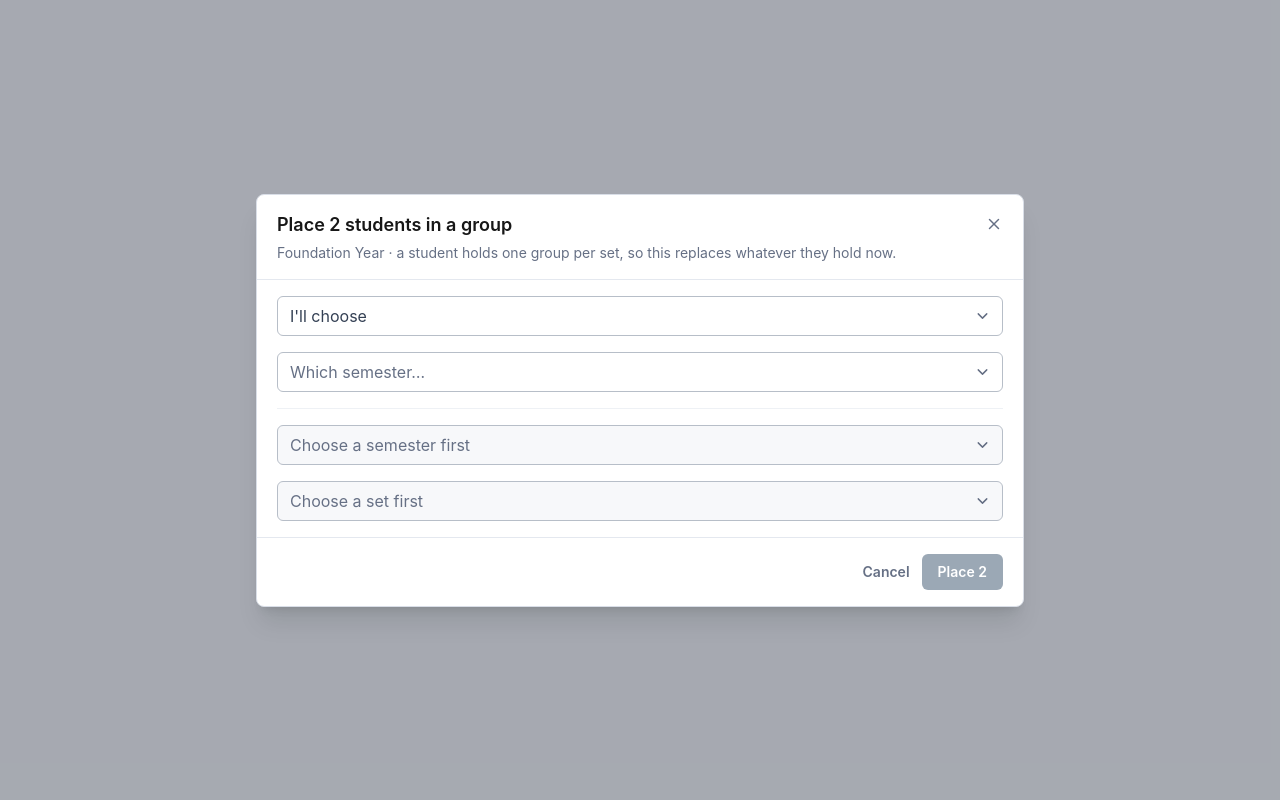
it: groups nobody should be placed into › still offers a group retired for one course of the set and live for another
This screenshot has width=1280, height=800.
Click the dropdown labelled "semester" at (358, 372), box [277,352,1003,392]
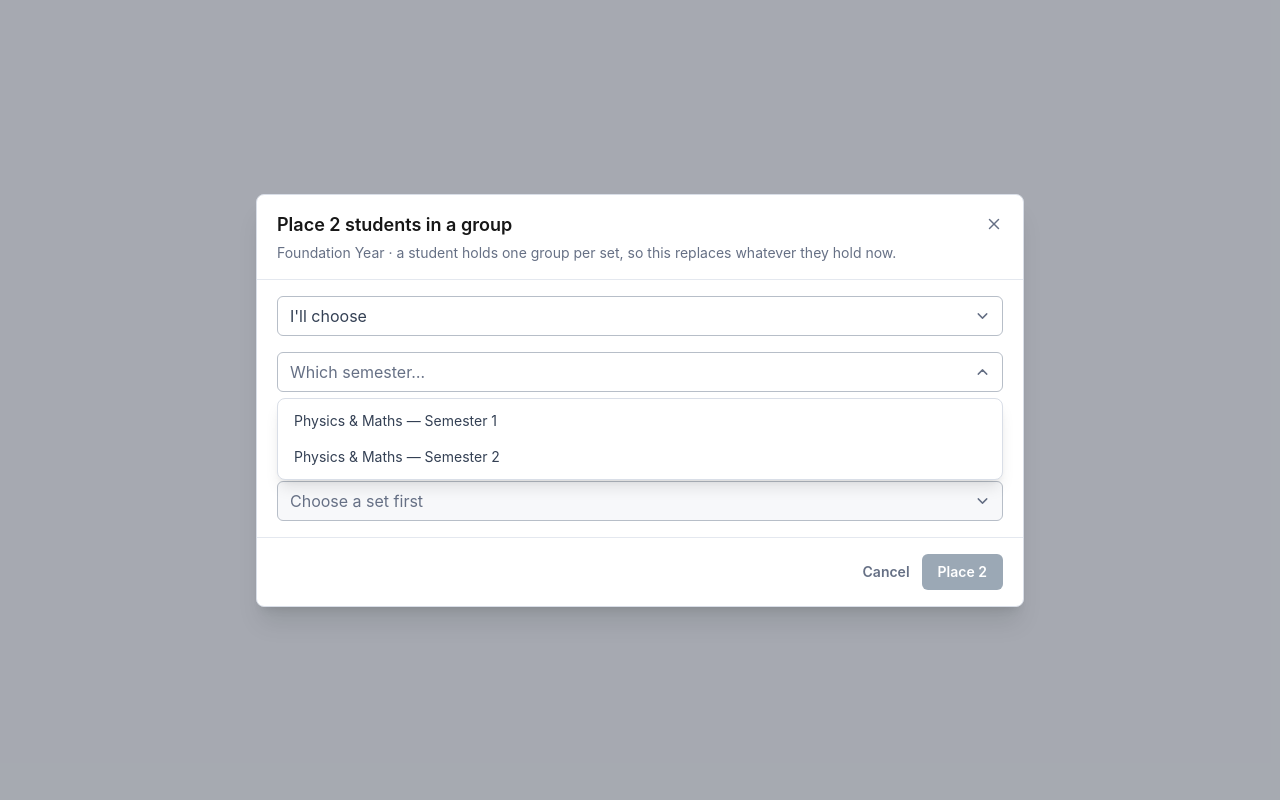
Click the option "Physics & Maths — Semester 1" at (396, 420), box [282,403,998,439]
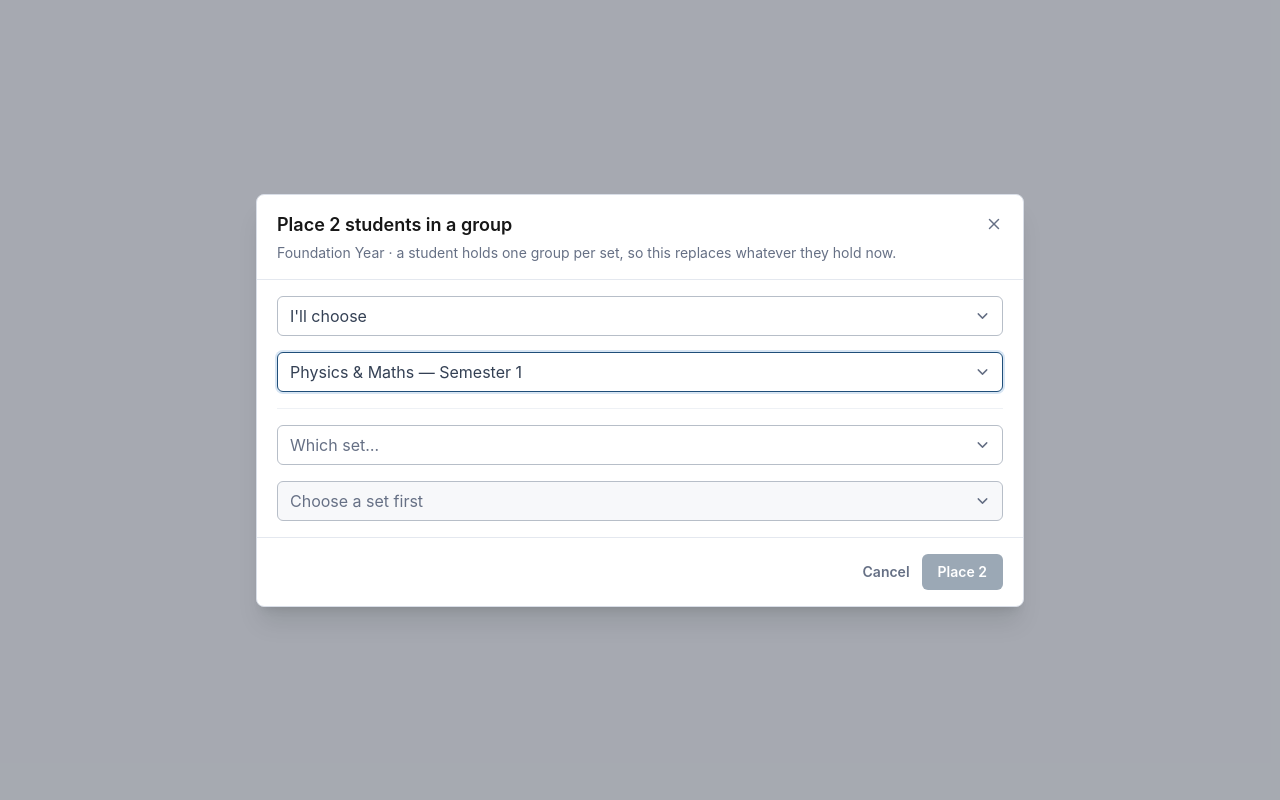
Check: the dropdown named "Block" is enabled
Click the dropdown named "Block" at (335, 444), box [277,424,1003,464]
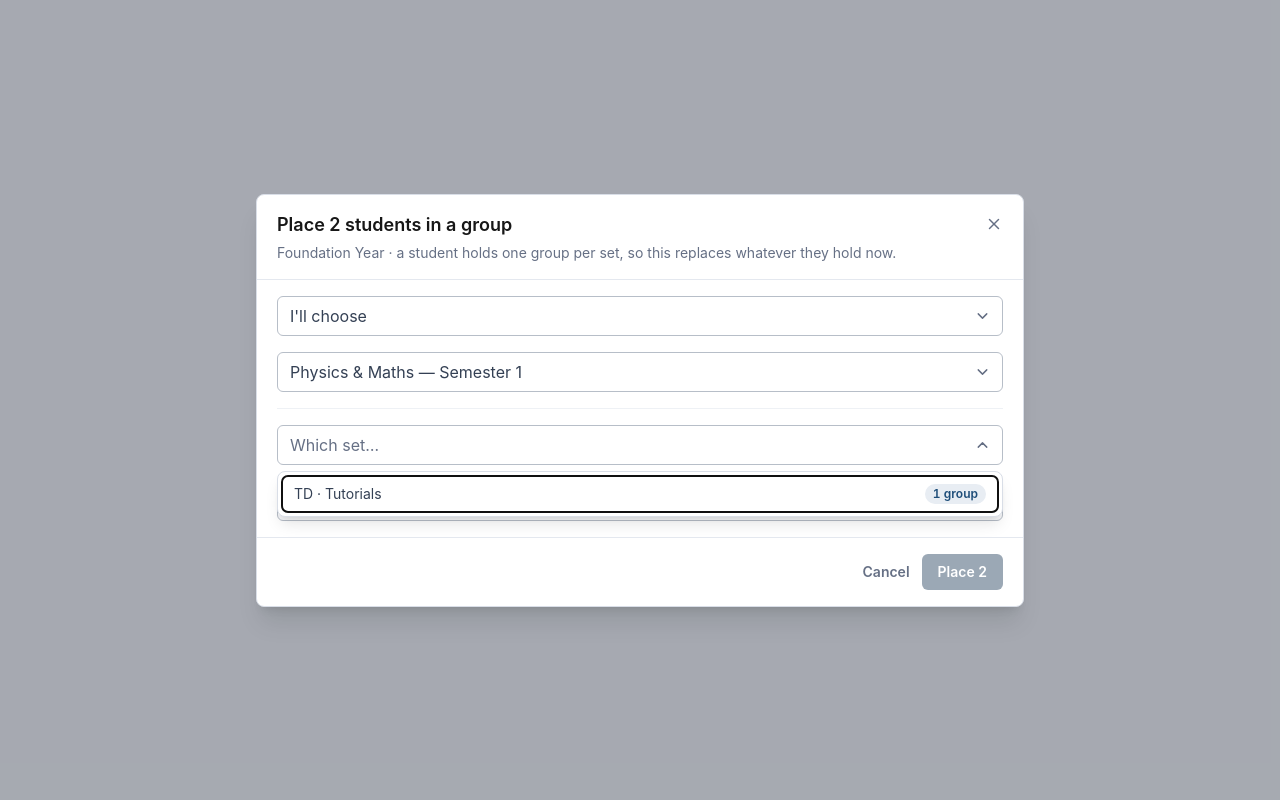
Click the option "TD · Tutorials 1 group" at (338, 494), box [282,476,998,512]
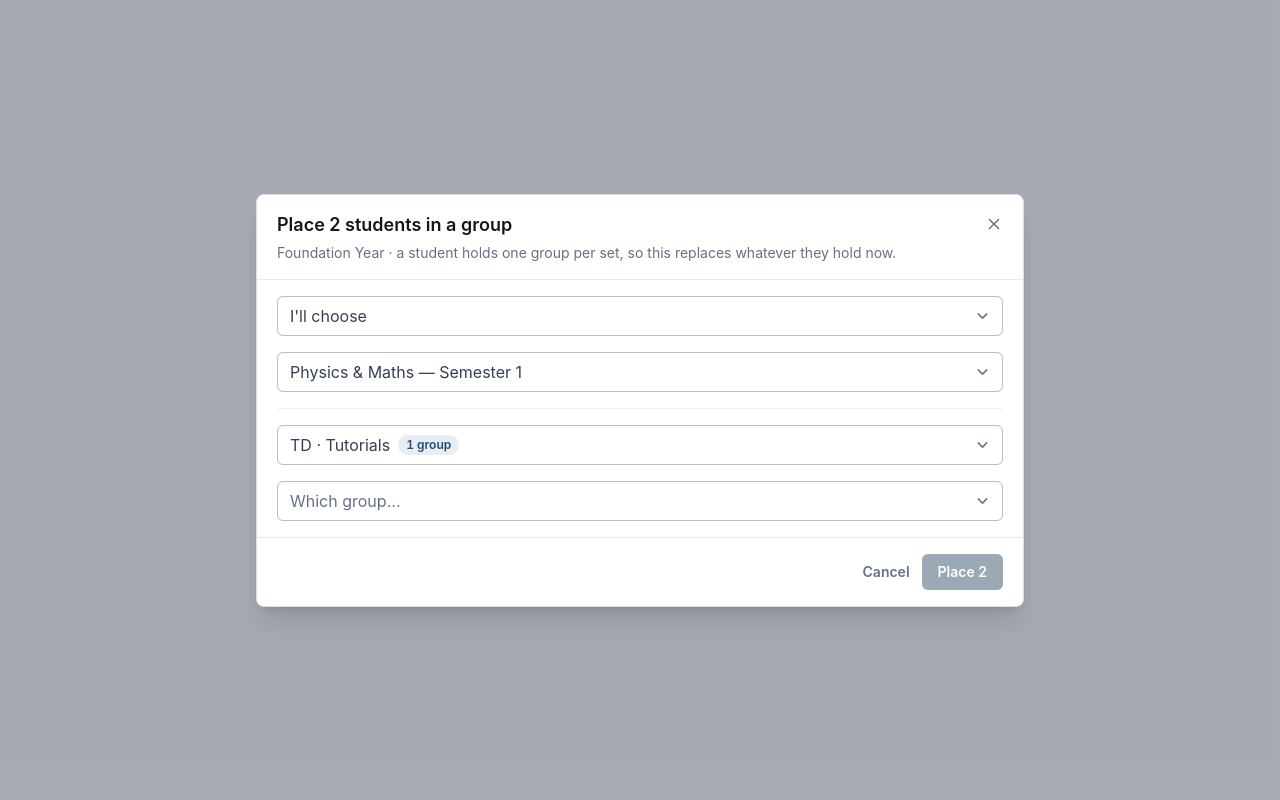
Click the dropdown labelled "group" at (345, 500), box [277,480,1003,520]
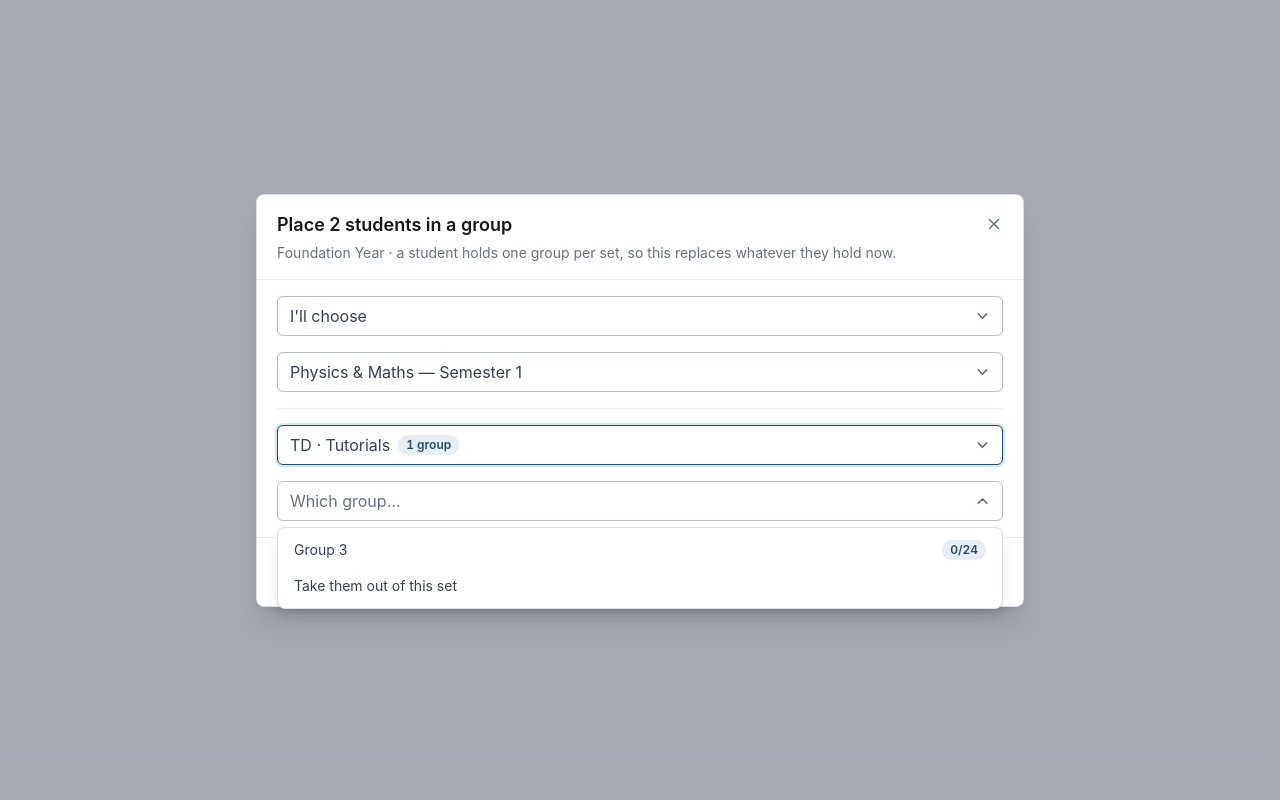
Check: the option "Group 3 0/24" is shown, box [282,532,998,568]
